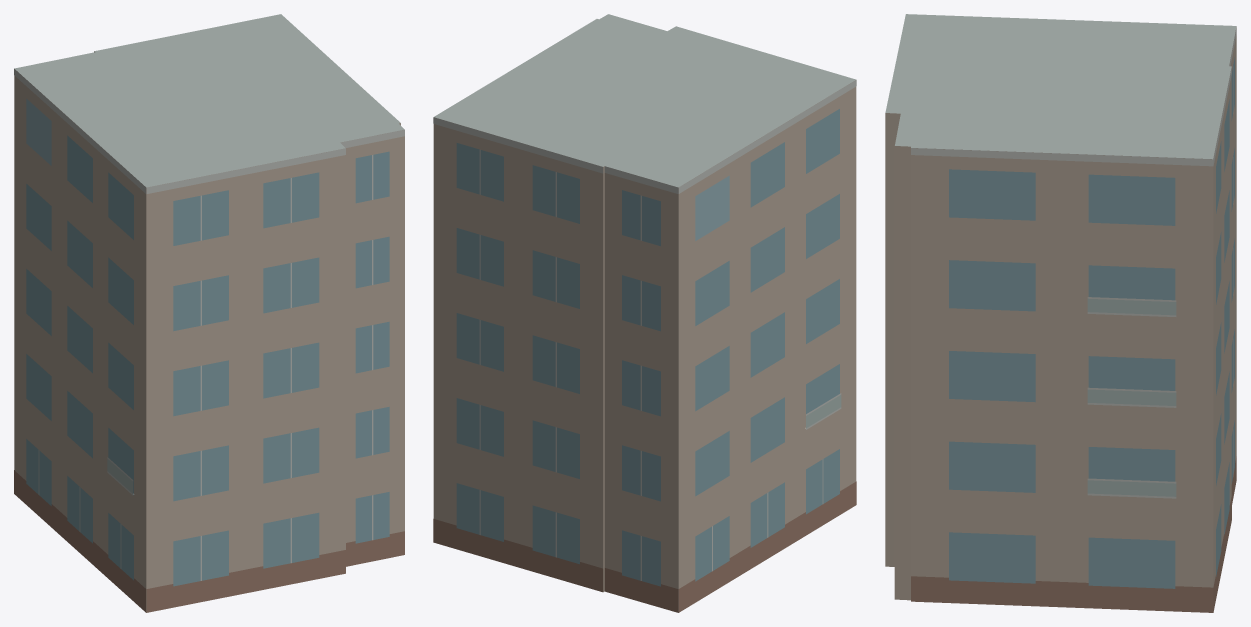
Rendered from survey-upis-33022436.glb.
The picture shows the model from 3 angles, left to right: view 1: azimuth 30°, elevation 25°; view 2: azimuth 150°, elevation 25°; view 3: azimuth 270°, elevation 25°; orthographic projection. The views are drawn at different scales.
Parts seen in each view (by area): view 1: survey-upis-33022436.tmp; view 2: survey-upis-33022436.tmp; view 3: survey-upis-33022436.tmp.
Boxes of the visible parts, x1,y1,x2,y2 form: survey-upis-33022436.tmp: (14, 14, 404, 612); survey-upis-33022436.tmp: (433, 14, 856, 612); survey-upis-33022436.tmp: (885, 14, 1236, 612).
Size of the model in its own units: 10.61 by 15.45 by 10.85.
